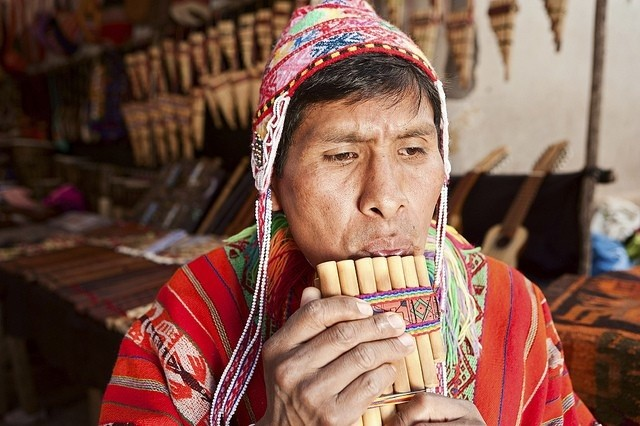face_no_mask: (268, 45, 445, 279)
